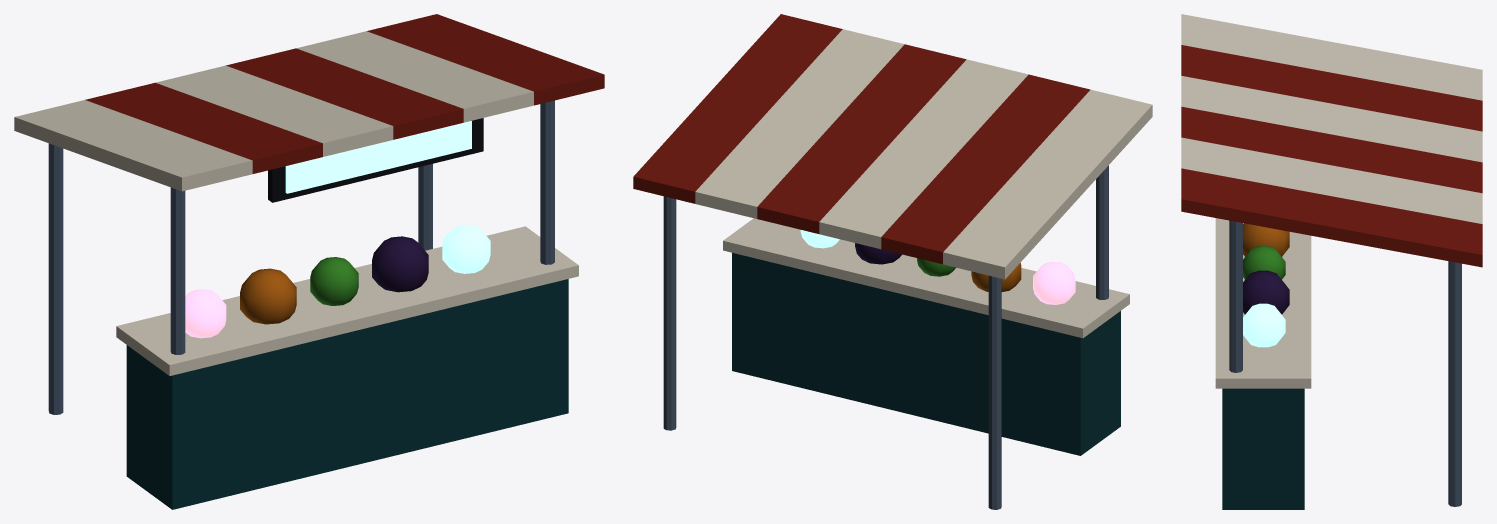
Rendered from market_stall.glb.
The picture shows the model from 3 angles, left to right: view 1: azimuth 30°, elevation 25°; view 2: azimuth 150°, elevation 25°; view 3: azimuth 270°, elevation 25°; orthographic projection. The views are drawn at different scales.
Visible parts, largest first — view 1: market_stall; view 2: market_stall; view 3: market_stall.
Part boxes in pixels (<box>): market_stall: <box>14,14,604,509</box>; market_stall: <box>633,14,1152,509</box>; market_stall: <box>1181,14,1482,509</box>.
Bounding box in the file's own units: 3.2 × 2.55 × 2.2.
